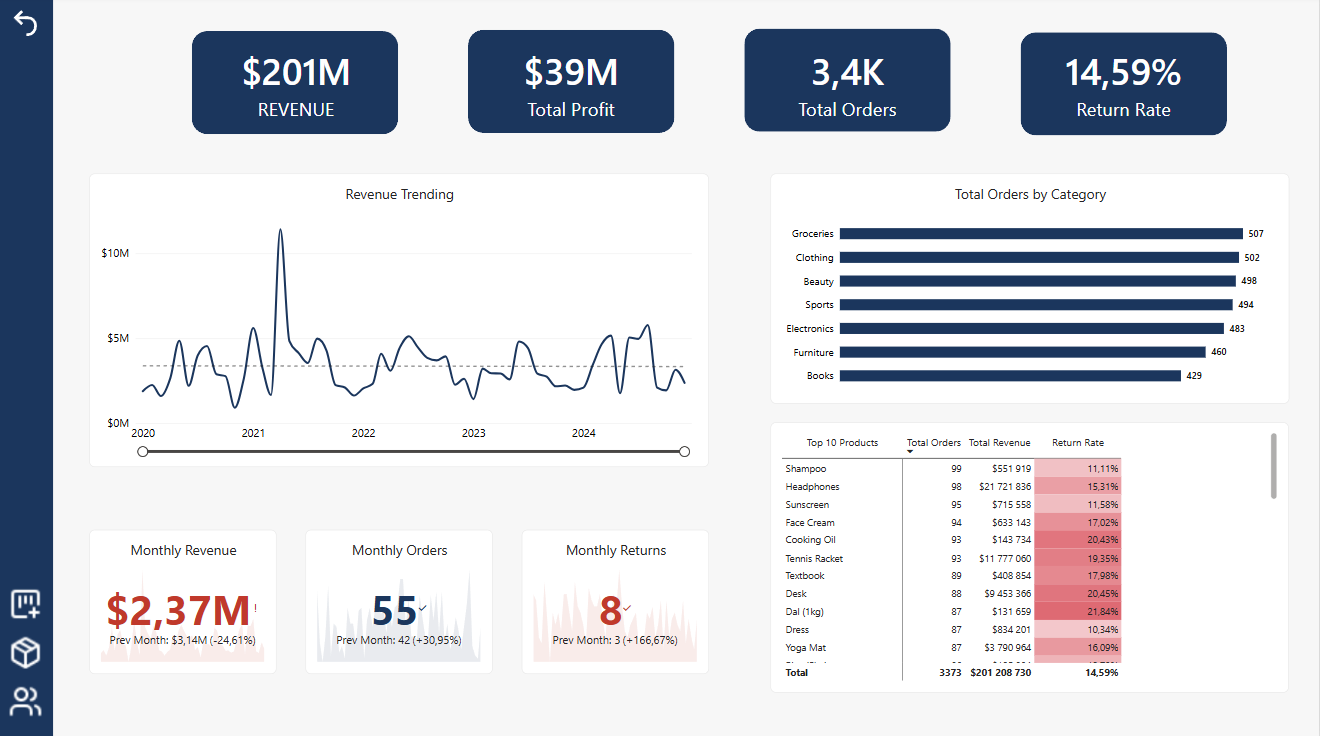

The dashboard page shown, as its layout file describes it:
{"tool":"powerbi","page":{"name":"Exec Dashboard","canvas":[1920,1080],"ordinal":0},"visuals":[{"type":"cardVisual","fields":{"Data":["Measure Table (DAX).Total Revenue"]},"box":[256,29.1,354,196],"z":0,"group":"g2"},{"type":"shape","box":[282.2,51.2,300,150],"z":0,"group":"g1"},{"type":"actionButton","box":[0,848,79.9,70.8],"z":0,"group":"g4"},{"type":"shape","title":"Left Nav","box":[0,0,80,1080],"z":1000},{"type":"cardVisual","fields":{"Data":["Measure Table (DAX).Total Profit"]},"box":[655.5,29.1,354,196],"z":1000,"group":"g2"},{"type":"actionButton","box":[0,918.8,79.9,70.8],"z":1000,"group":"g4"},{"type":"cardVisual","fields":{"Data":["Measure Table (DAX).Total Orders"]},"box":[1056.7,29.1,354,196],"z":2000,"group":"g2"},{"type":"shape","box":[1085.1,47.6,300,150],"z":2000,"group":"g1"},{"type":"actionButton","box":[0,989.6,79.9,70.8],"z":2000,"group":"g4"},{"type":"cardVisual","fields":{"Data":["Measure Table (DAX).Return Rate"]},"box":[1458,29.1,354,196],"z":3000,"group":"g2"},{"type":"shape","box":[683.7,49.4,300,150],"z":3000,"group":"g1"},{"type":"lineChart","title":"Revenue Trending","fields":{"Category":["Calendar.Year","Calendar.Start of Quarter","Calendar.Start of Month"],"Y":["Measure Table (DAX).Total Revenue"]},"box":[132.1,258.5,900,426.4],"z":4000},{"type":"shape","box":[1486.6,52.9,300,150],"z":5000,"group":"g1"},{"type":"kpi","title":"Monthly Revenue","fields":{"Goal":["Measure Table (DAX).Previous Month Revenue"],"Indicator":["Measure Table (DAX).Total Revenue"],"TrendLine":["Calendar.Start of Month"]},"box":[132.1,775.5,271.7,209.4],"z":6000},{"type":"kpi","title":"Monthly Orders","fields":{"Goal":["Measure Table (DAX).Previous Month Orders"],"Indicator":["Measure Table (DAX).Total Orders"],"TrendLine":["Calendar.Start of Month"]},"box":[446.2,775.5,271.7,209.4],"z":7000},{"type":"kpi","title":"Monthly Returns","fields":{"Goal":["Measure Table (DAX).Previous Month Returns"],"Indicator":["Measure Table (DAX).Total Returns"],"TrendLine":["Calendar.Start of Month"]},"box":[760.4,775.5,271.7,209.4],"z":8000},{"type":"pivotTable","title":"Top 10 Products","fields":{"Rows":["Products.product_name"],"Values":["Measure Table (DAX).Total Orders","Measure Table (DAX).Total Revenue","Measure Table (DAX).Return Rate"]},"box":[1122.1,619.2,752.8,392.5],"z":9000},{"type":"clusteredBarChart","title":"Total Orders by Category","fields":{"Category":["Product Categories.category_name"],"Y":["Measure Table (DAX).Total Orders"]},"box":[1122.1,257.8,753.5,334.1],"z":10000},{"type":"group","id":"g1","title":"Bgc KPIs","box":[282.2,47.6,1504.4,155.3],"z":11001,"group":"g3"},{"type":"group","id":"g2","title":"KPIs","box":[256,29.1,1556,196],"z":11501,"group":"g3"},{"type":"group","id":"g3","title":"KPIs","box":[256,29.1,1556,196],"z":11502},{"type":"actionButton","box":[0,0,79.9,78],"z":11503},{"type":"group","id":"g4","title":"Nav Buttons","box":[0,848,79.9,212.4],"z":11504}]}

Visuals, with their boxes on the page's 1920x1080 design canvas (x1, y1, x2, y2). These are canvas units, not pixel positions in the 1320x736 screenshot, which may show the page scaled, cropped or inside an application window:
cardVisual - Measure Table (DAX).Total Revenue: bbox(256, 29, 610, 225)
shape: bbox(282, 51, 582, 201)
actionButton: bbox(0, 848, 80, 919)
"Left Nav" shape: bbox(0, 0, 80, 1080)
cardVisual - Measure Table (DAX).Total Profit: bbox(656, 29, 1010, 225)
actionButton: bbox(0, 919, 80, 990)
cardVisual - Measure Table (DAX).Total Orders: bbox(1057, 29, 1411, 225)
shape: bbox(1085, 48, 1385, 198)
actionButton: bbox(0, 990, 80, 1060)
cardVisual - Measure Table (DAX).Return Rate: bbox(1458, 29, 1812, 225)
shape: bbox(684, 49, 984, 199)
"Revenue Trending" lineChart: bbox(132, 258, 1032, 685)
shape: bbox(1487, 53, 1787, 203)
"Monthly Revenue" kpi: bbox(132, 776, 404, 985)
"Monthly Orders" kpi: bbox(446, 776, 718, 985)
"Monthly Returns" kpi: bbox(760, 776, 1032, 985)
"Top 10 Products" pivotTable: bbox(1122, 619, 1875, 1012)
"Total Orders by Category" clusteredBarChart: bbox(1122, 258, 1876, 592)
"Bgc KPIs" group: bbox(282, 48, 1787, 203)
"KPIs" group: bbox(256, 29, 1812, 225)
"KPIs" group: bbox(256, 29, 1812, 225)
actionButton: bbox(0, 0, 80, 78)
"Nav Buttons" group: bbox(0, 848, 80, 1060)
